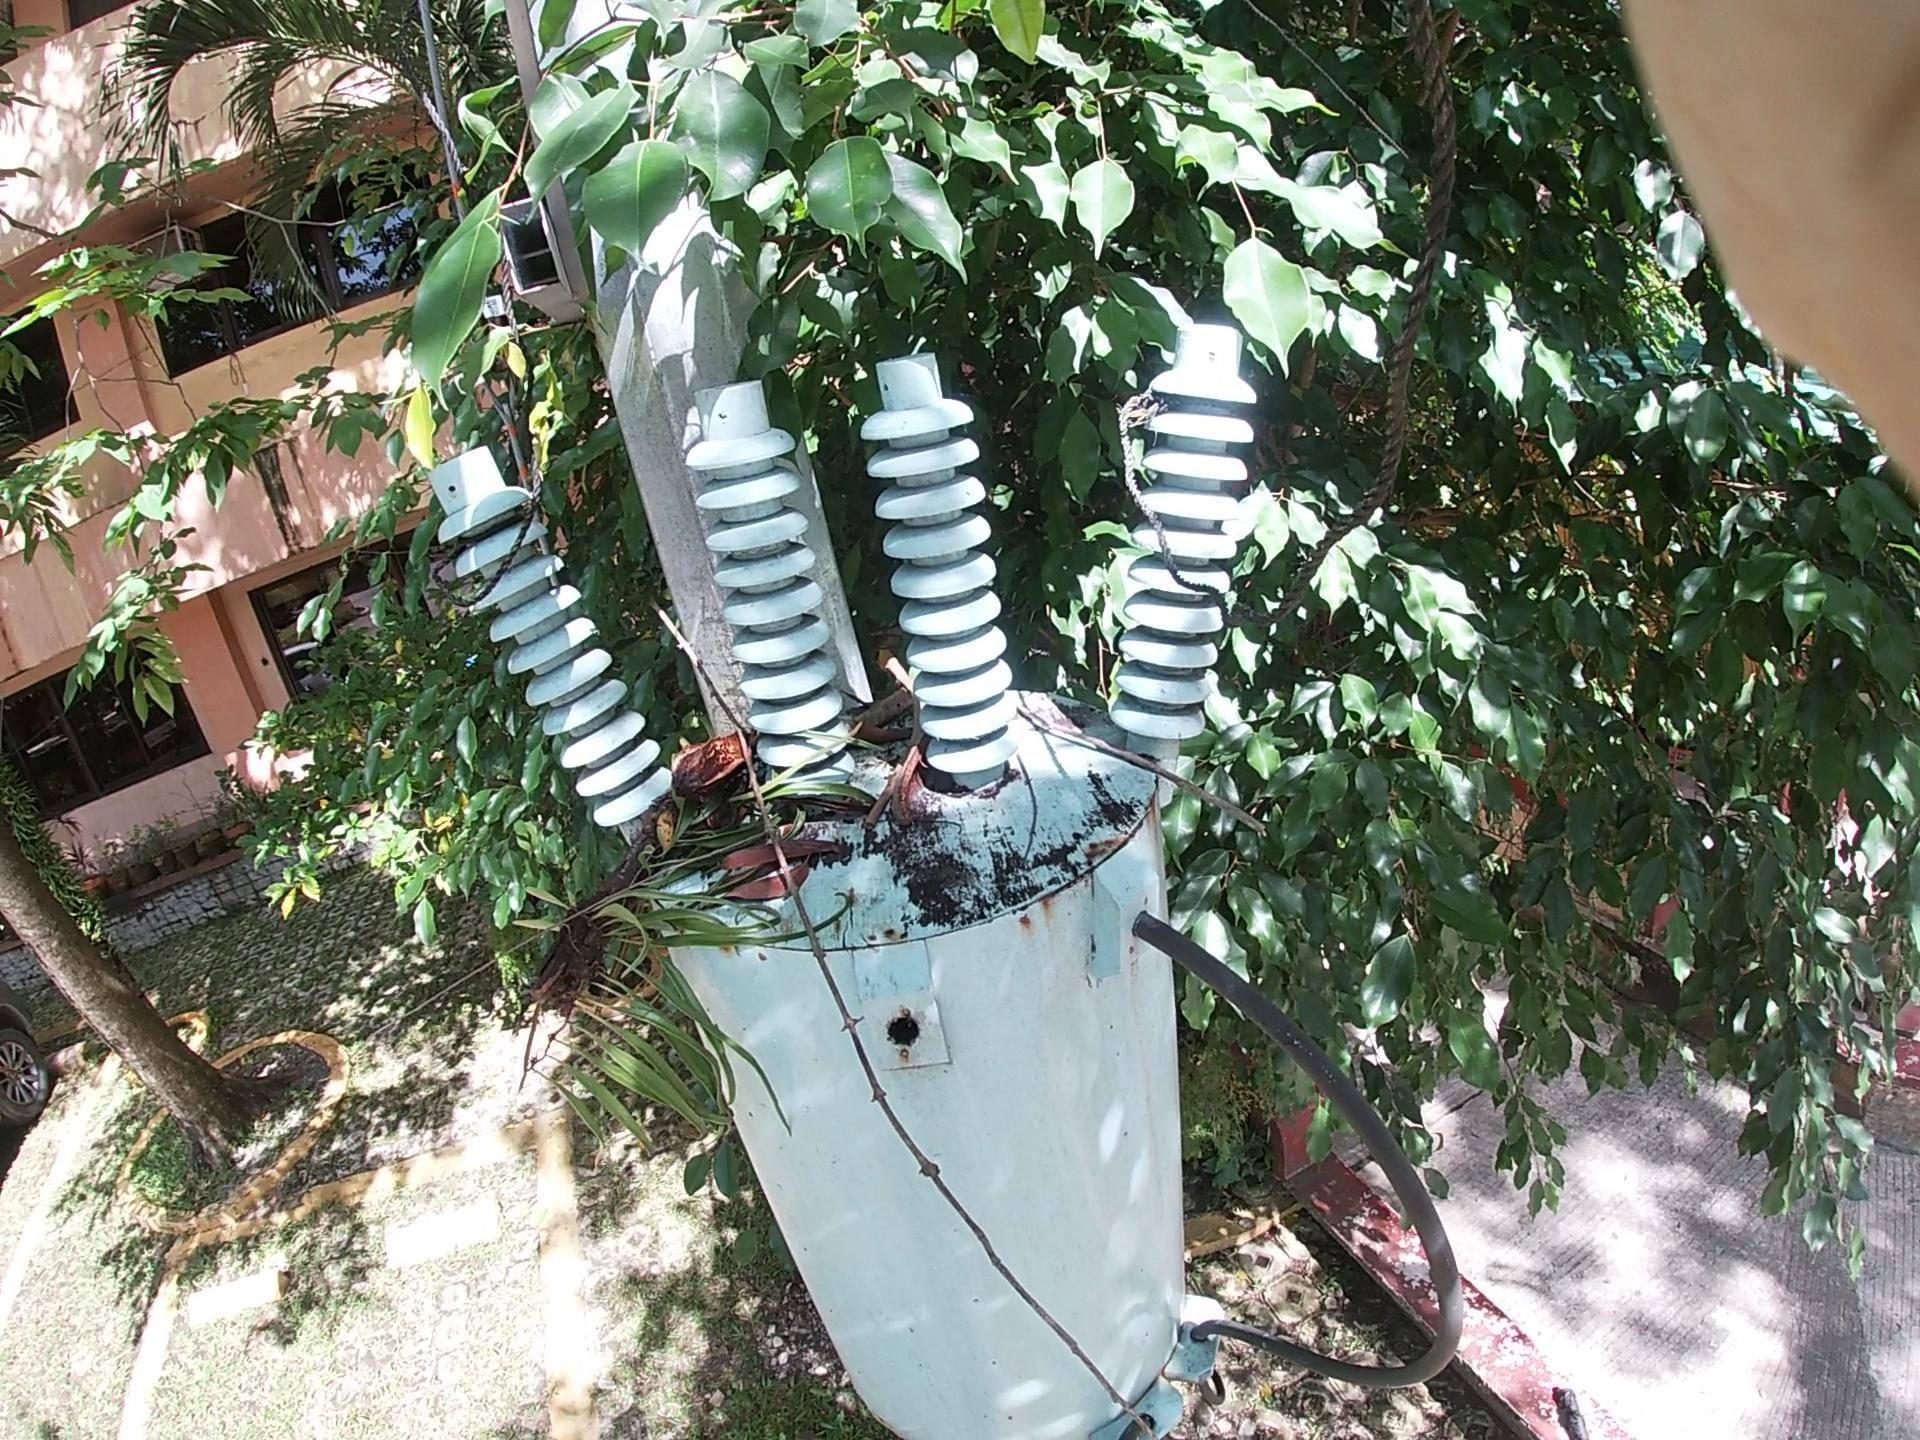branch with leaves: (441, 672, 794, 1134)
leaf: (714, 833, 777, 933)
mahogany fruit: (868, 726, 983, 861), (643, 726, 800, 821)
tree branch: (658, 635, 1123, 1255), (812, 591, 1104, 858), (1019, 712, 1336, 883)
